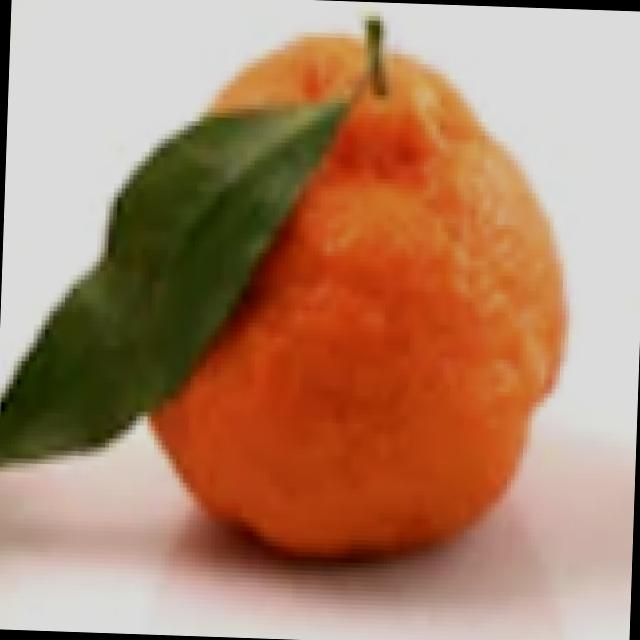orange: (132, 23, 580, 573)
